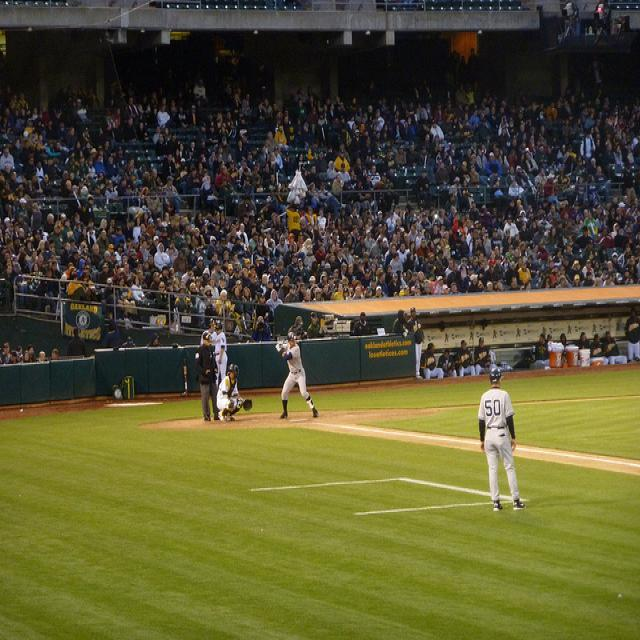non-dog: (477, 365, 527, 512), (276, 332, 320, 421), (196, 337, 225, 421), (216, 364, 253, 422)
